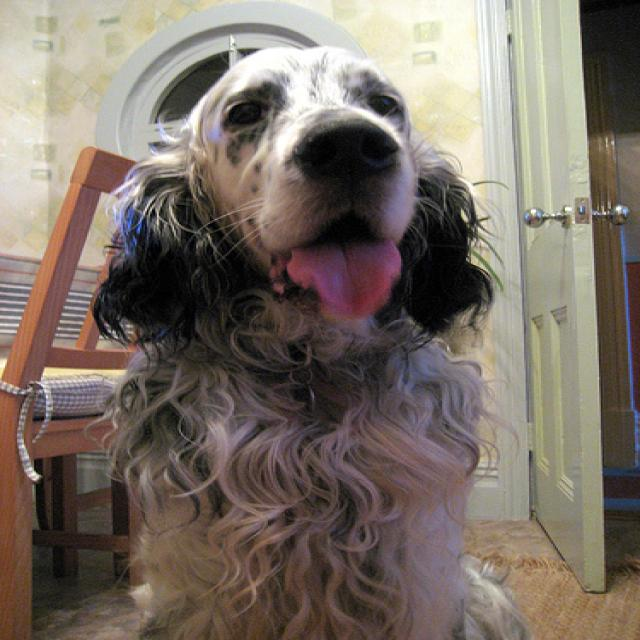dog-english_setter: (82, 32, 529, 637)
